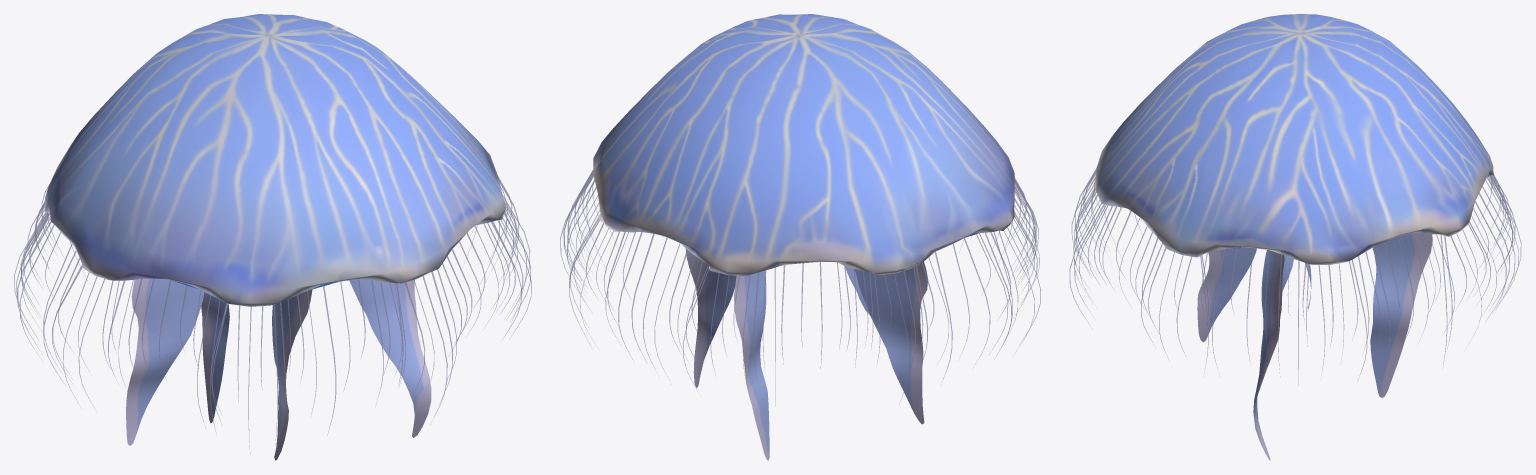
The model's file is jellyfish.glb.
3 views of the same model, side by side, from view 1: azimuth 30°, elevation 25°; view 2: azimuth 150°, elevation 25°; view 3: azimuth 270°, elevation 25° (orthographic). The views are drawn at different scales.
Visible parts, largest first — view 1: Jellyfish.gn; view 2: Jellyfish.gn; view 3: Jellyfish.gn.
Boxes of the visible parts, x1,y1,x2,y2 form: Jellyfish.gn: [14, 14, 531, 460]; Jellyfish.gn: [560, 14, 1040, 460]; Jellyfish.gn: [1069, 14, 1521, 460].
Size of the model in its own units: 2.06 by 1.81 by 1.99.
Materials: 3 (1 with a texture image).
